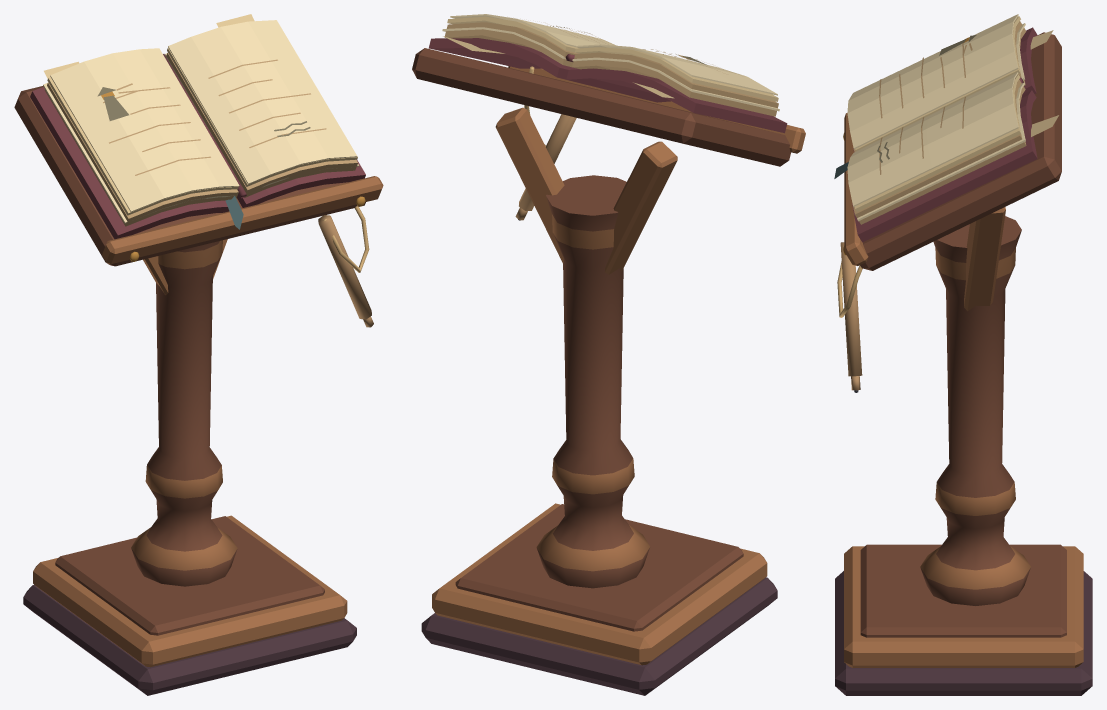
File: logbook.glb
3 renders of one model, left to right at view 1: azimuth 30°, elevation 25°; view 2: azimuth 150°, elevation 25°; view 3: azimuth 270°, elevation 25°, orthographic. The views are drawn at different scales.
Parts seen in each view (by area): view 1: logbook; view 2: logbook; view 3: logbook.
Boxes of the visible parts, x1=… form: logbook: x1=14, y1=14, x2=383, y2=695; logbook: x1=412, y1=14, x2=805, y2=695; logbook: x1=834, y1=14, x2=1092, y2=695.
Size of the model in its own units: 0.5 by 1 by 0.4.
